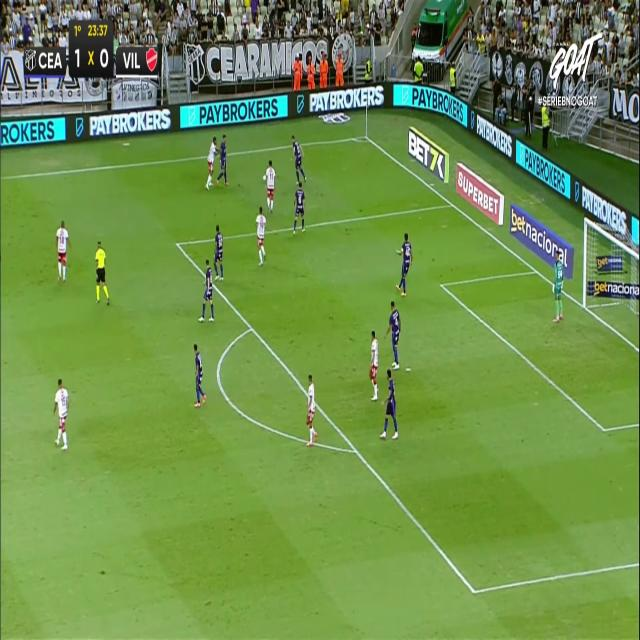goalkeeper: (552, 252, 564, 322)
player: (379, 368, 398, 439), (385, 300, 401, 371), (396, 231, 413, 296), (53, 377, 68, 448), (198, 257, 214, 321), (306, 373, 318, 445), (56, 220, 70, 281), (193, 343, 206, 407), (291, 134, 306, 184), (216, 133, 229, 186), (263, 159, 276, 211), (255, 206, 266, 266), (206, 136, 218, 191), (369, 329, 378, 400), (293, 181, 305, 234), (214, 223, 224, 280)
referee: (95, 240, 110, 303)
